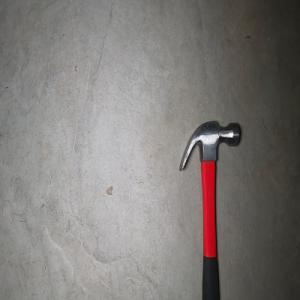Hammer: (178, 120, 240, 300)
